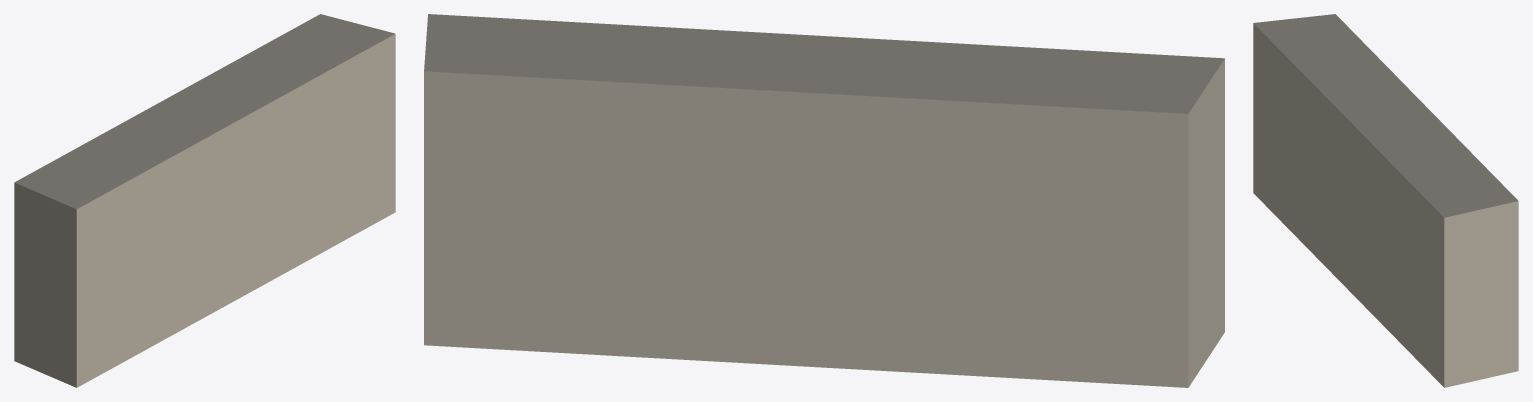
3 renders of one model, left to right at view 1: azimuth 30°, elevation 25°; view 2: azimuth 150°, elevation 25°; view 3: azimuth 270°, elevation 25°, orthographic. The views are drawn at different scales.
Visible parts, largest first — view 1: HP-w1058562705; view 2: HP-w1058562705; view 3: HP-w1058562705.
Boxes of the visible parts, x1,y1,x2,y2 form: HP-w1058562705: (14,14,395,387); HP-w1058562705: (424,14,1224,387); HP-w1058562705: (1253,14,1518,387).
Bounding box in the file's own units: 46.25 × 18 × 25.43.
